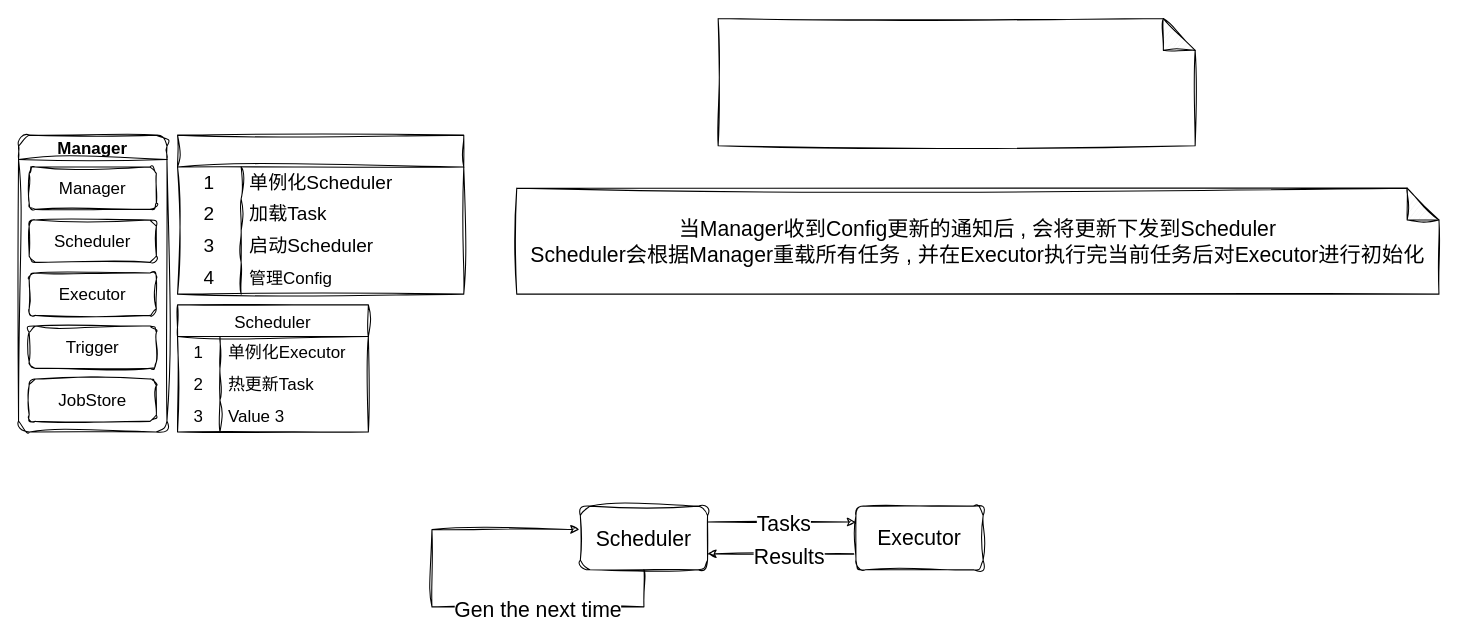
Image size: 1457x639. Some labels were removed from this diagram. Each missing label, with the box of its shape:
Manager(Async): (176, 134, 464, 294)
Manager生成进程单例Scheduler Scheduler生成进程单例Executor: (717, 17, 1195, 146)
